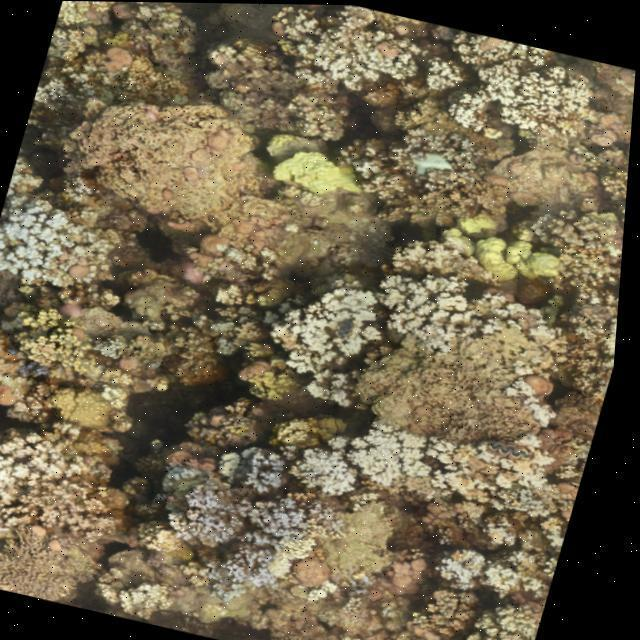Bleached Coral: (271, 266, 398, 406), (257, 3, 439, 99), (0, 185, 131, 304), (443, 34, 597, 128), (230, 474, 326, 596), (387, 244, 503, 340), (354, 416, 464, 499), (0, 409, 56, 512), (288, 435, 378, 497), (226, 434, 304, 496), (496, 372, 580, 428), (437, 536, 503, 598), (606, 174, 630, 233)
